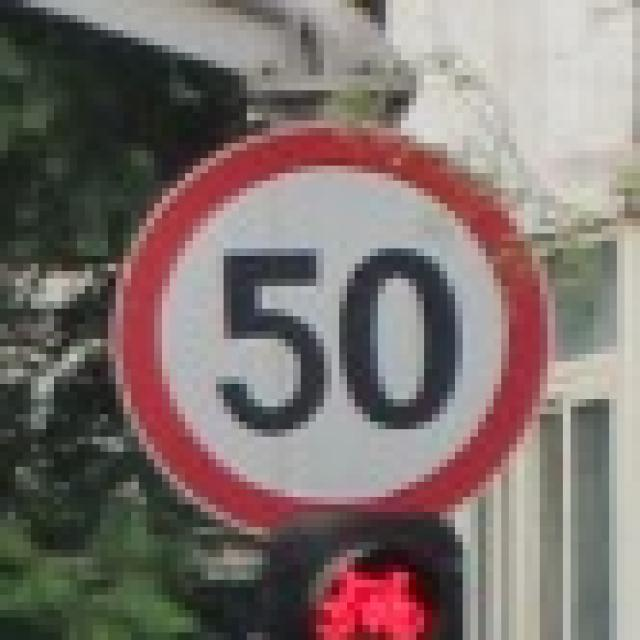Speed Limit -50-: (213, 240, 470, 445)
